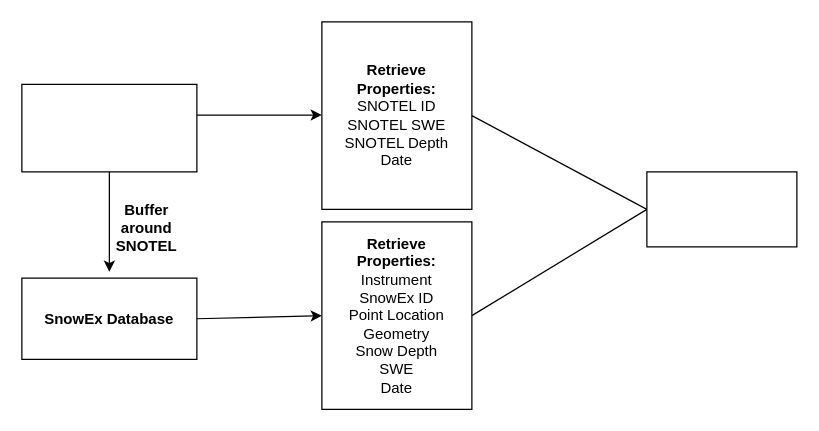
Image size: 819x431. Some labels were removed from this diagram. The shapes that lost their labels are listed below. From the top down, each one's centre as x and y in pixels, then its label:
the point at 109,127: AWDB(SNOTEL, date)
the point at 721,209: 1. Snow Depth Difference 2. SWE Difference 3. Distance b/w sites
